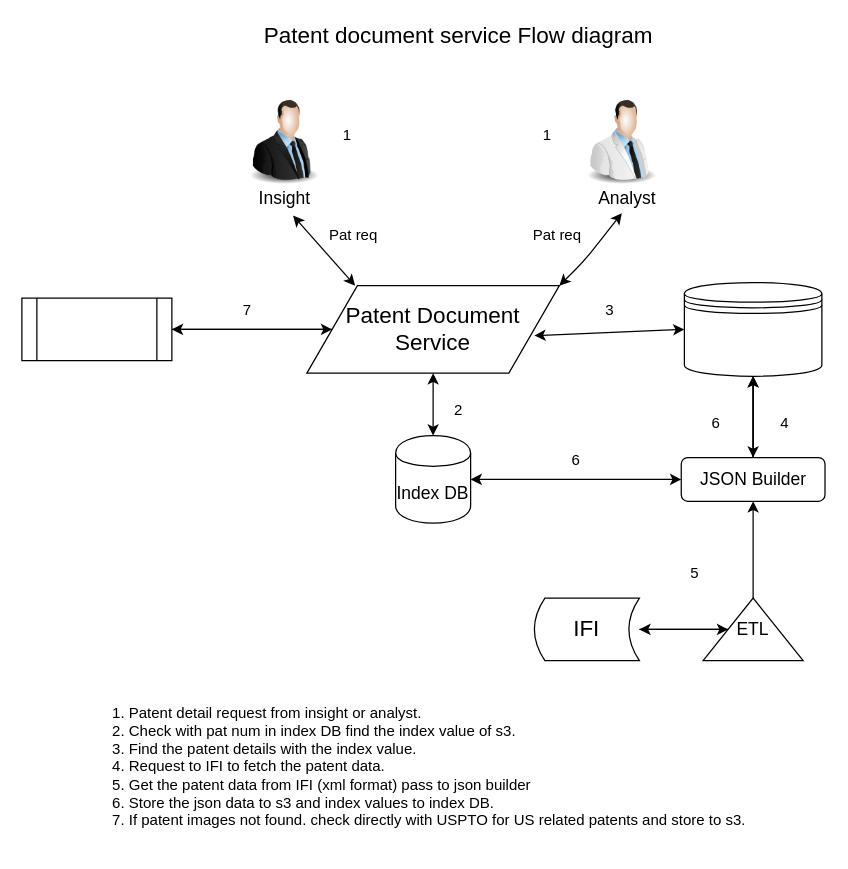
The diagram is 848 pixels wide and 869 high, and some of its shapes have lost their labels. The centre of each missing label's shape, as x and y in pixels:
S3: (x=752, y=328)
USPTO: (x=96, y=329)
